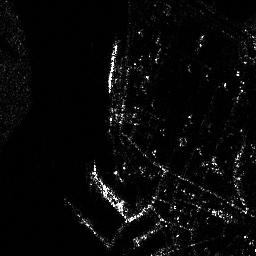ship: (88, 171, 129, 215), (107, 37, 123, 93)
